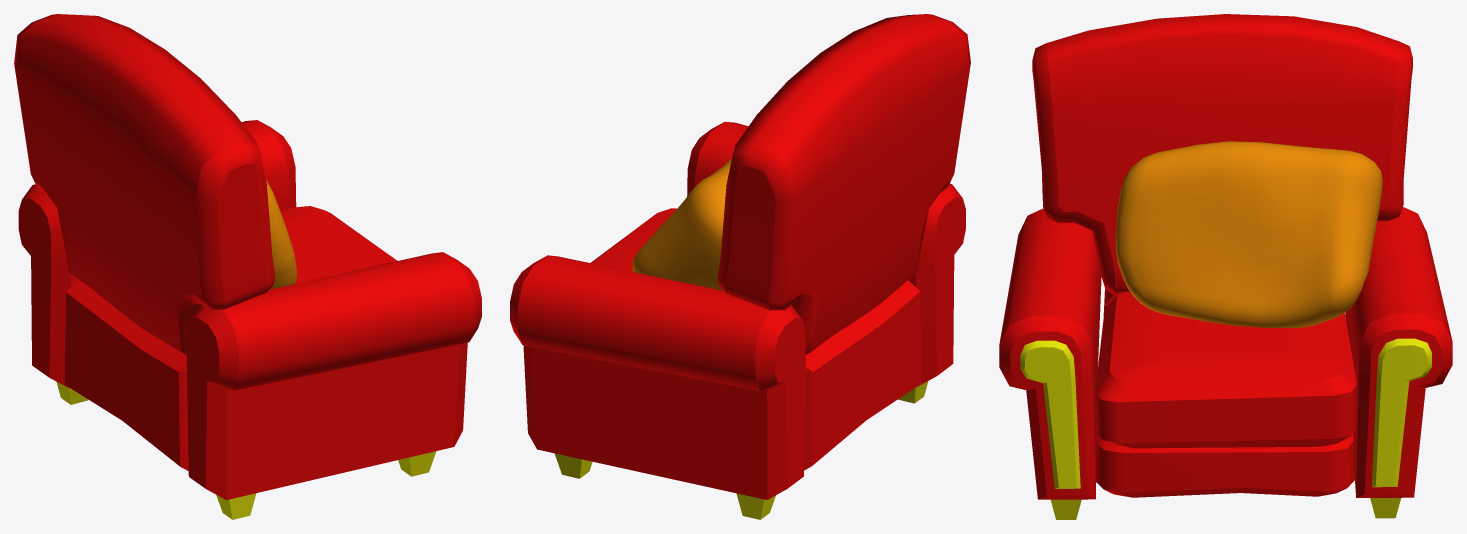
File: LR_Armchair_2.fbx
3 views of the same model, side by side, from view 1: azimuth 30°, elevation 25°; view 2: azimuth 150°, elevation 25°; view 3: azimuth 270°, elevation 25° (orthographic).
Parts seen in each view (by area): view 1: LR_Armchair_2; view 2: LR_Armchair_2; view 3: LR_Armchair_2.
Part boxes in pixels (box(x1,y1,x2,y2)): LR_Armchair_2: box(14, 14, 481, 519); LR_Armchair_2: box(510, 14, 970, 519); LR_Armchair_2: box(999, 14, 1452, 519).
Size of the model in its own units: 114 by 155 by 158.
